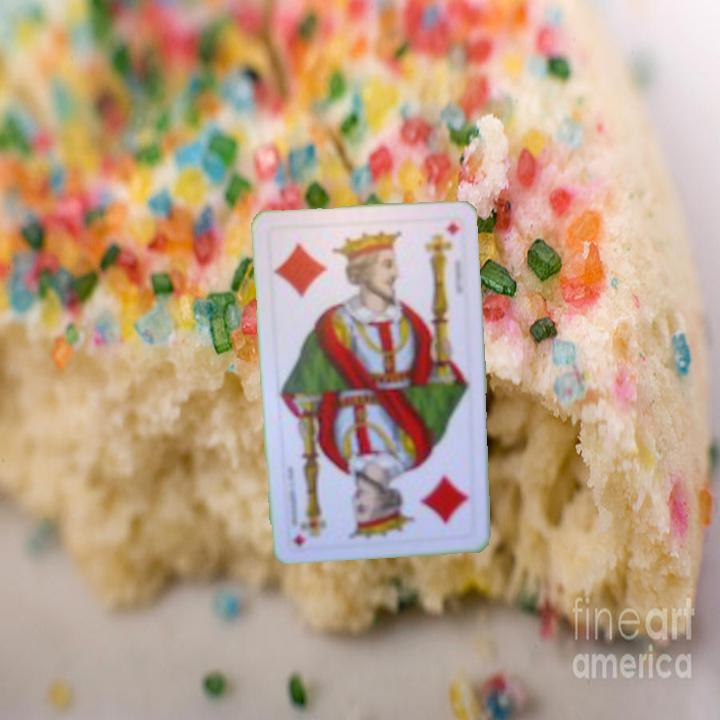d_k.png: (374, 450, 479, 541), (267, 220, 371, 311)
